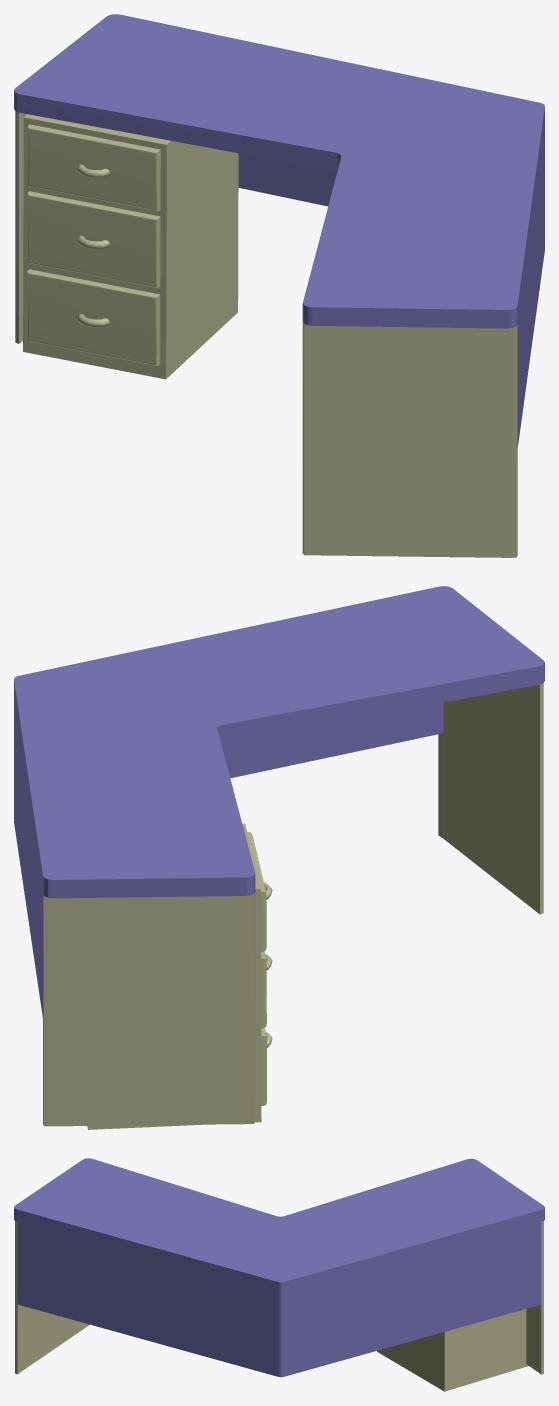
The model's file is Desk.fbx.
The picture shows the model from 3 angles, top to bottom: view 1: azimuth 30°, elevation 25°; view 2: azimuth 150°, elevation 25°; view 3: azimuth 270°, elevation 25°; orthographic projection. The views are drawn at different scales.
Visible parts, largest first — view 1: polySurface13.001; view 2: polySurface13.001; view 3: polySurface13.001.
Boxes of the visible parts, <box> form: polySurface13.001: <box>14,14,544,557</box>; polySurface13.001: <box>14,586,544,1129</box>; polySurface13.001: <box>14,1158,544,1391</box>.
Size of the model in its own units: 215 by 135 by 388.
